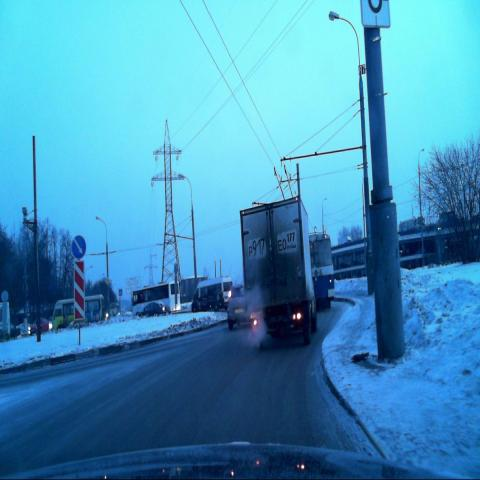4_2_1: (71, 234, 86, 260)
